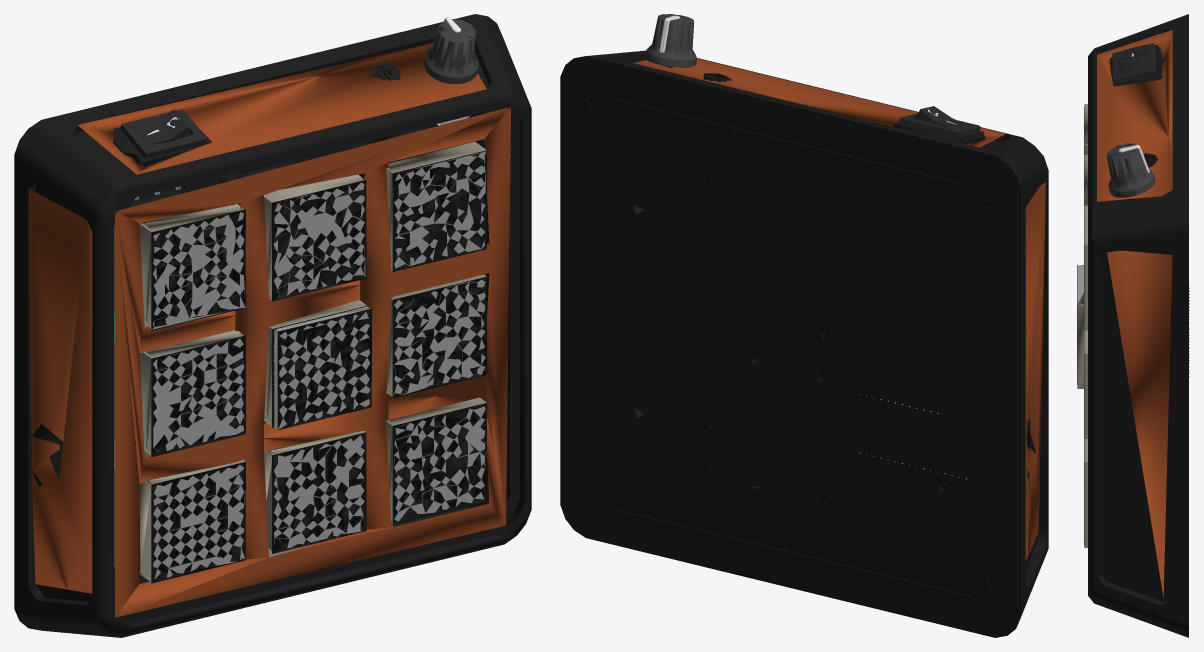
Rendered from model-lite.lod1.glb.
The picture shows the model from 3 angles, left to right: view 1: azimuth 30°, elevation 25°; view 2: azimuth 150°, elevation 25°; view 3: azimuth 270°, elevation 25°; orthographic projection. The views are drawn at different scales.
Visible parts, largest first — view 1: top-panel, Body1:84, Body1:60, Body1:59, Body2:31, Body2, Body1:82, Body1:77; view 2: Body1:84, top-panel, Body1:82, Body1:77; view 3: Body1:84, top-panel, Body2:31, Body1:82, Body1:77, Body1:60, Body2.
Boxes of the visible parts, x1=… form: top-panel: x1=28, y1=43, x2=510, y2=617; Body1:84: x1=14, y1=14, x2=531, y2=637; Body1:60: x1=139, y1=139, x2=486, y2=583; Body1:59: x1=114, y1=151, x2=485, y2=579; Body2:31: x1=139, y1=141, x2=486, y2=581; Body2: x1=150, y1=310, x2=370, y2=455; Body1:82: x1=423, y1=17, x2=478, y2=83; Body1:77: x1=120, y1=109, x2=206, y2=158; Body1:84: x1=560, y1=50, x2=1048, y2=637; top-panel: x1=633, y1=58, x2=1045, y2=560; Body1:82: x1=645, y1=14, x2=696, y2=67; Body1:77: x1=899, y1=106, x2=980, y2=137; Body1:84: x1=1088, y1=14, x2=1188, y2=637; top-panel: x1=1097, y1=30, x2=1172, y2=597; Body2:31: x1=1077, y1=104, x2=1087, y2=547; Body1:82: x1=1106, y1=143, x2=1155, y2=197; Body1:77: x1=1112, y1=43, x2=1156, y2=83; Body1:60: x1=1077, y1=107, x2=1084, y2=545; Body2: x1=1077, y1=265, x2=1083, y2=306.
Size of the model in its own units: 16.45 by 17.47 by 3.82.
